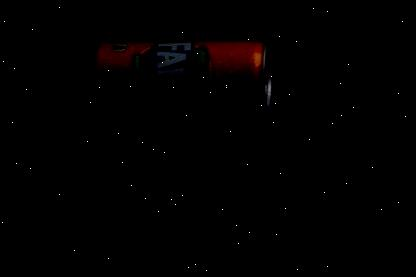Can: (90, 36, 274, 112)
